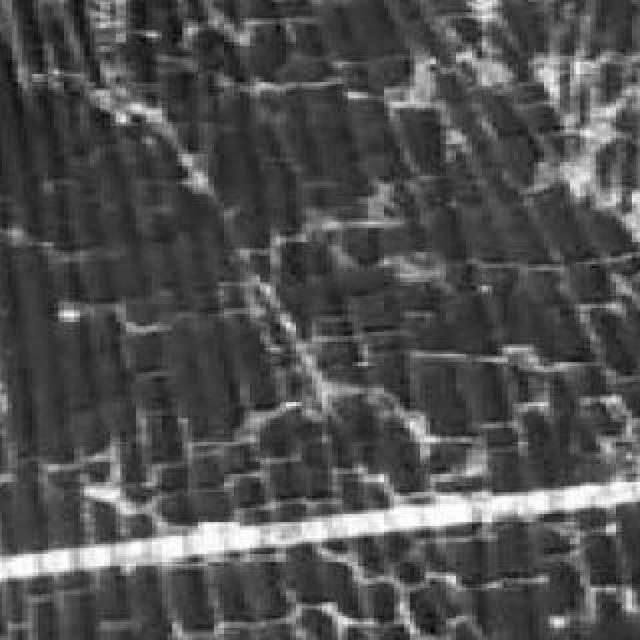Physical-damage: (256, 400, 542, 611), (133, 165, 353, 339), (451, 52, 640, 216)
